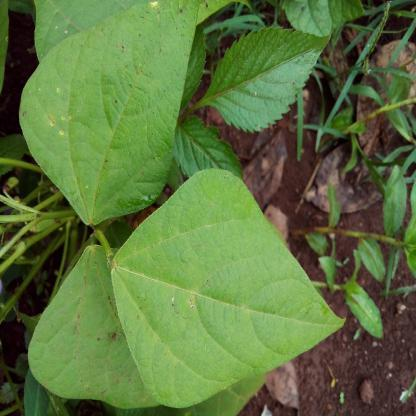Beans_Rust: (110, 169, 350, 409), (21, 0, 197, 222), (33, 243, 177, 411)
